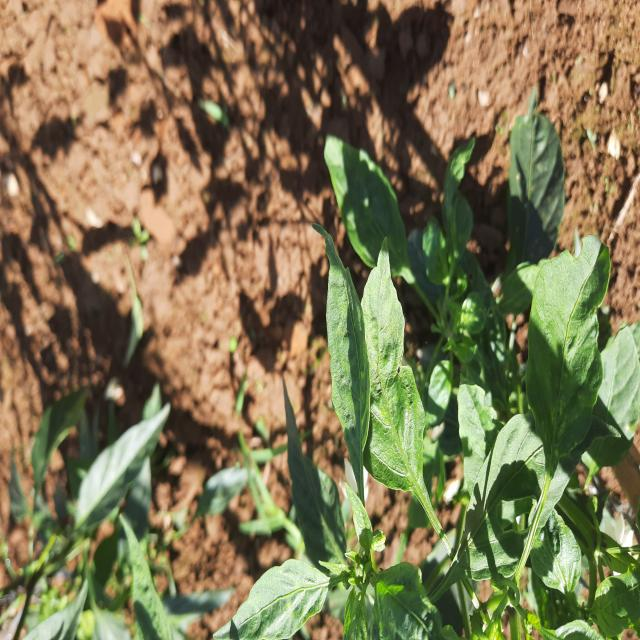thrips: (354, 223, 442, 509), (307, 223, 381, 481)
